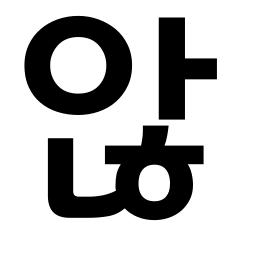Gaji: (150, 47, 202, 95)
